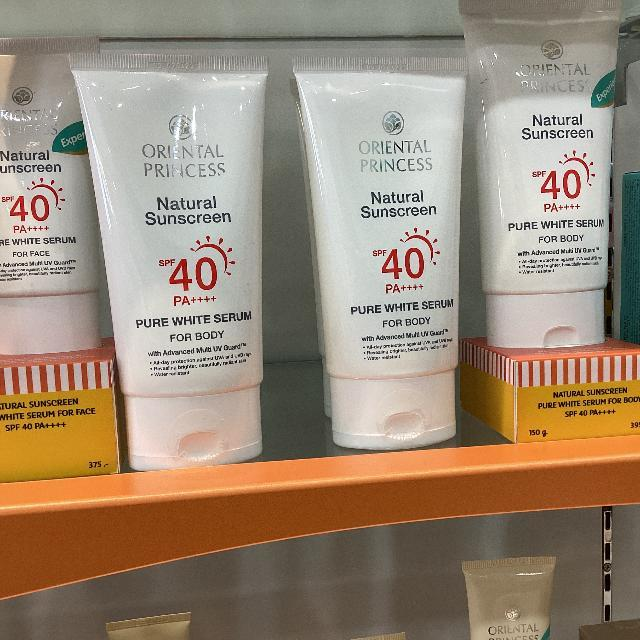Squeeze Tube: (4, 25, 640, 489), (68, 48, 273, 480), (289, 52, 468, 448), (460, 4, 619, 359)
